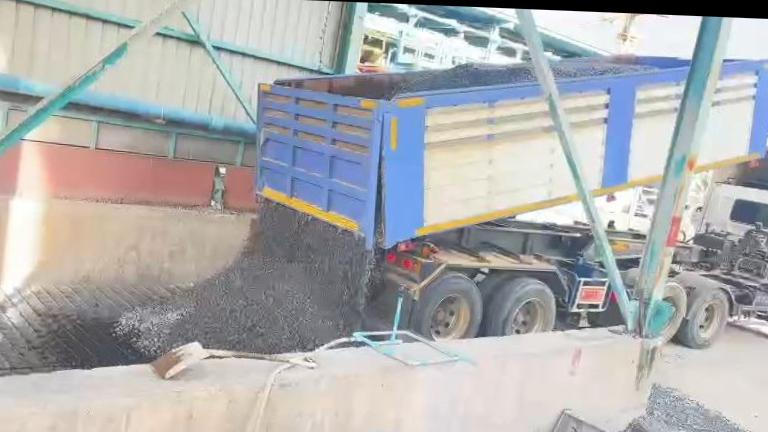gravel: (116, 201, 373, 356), (628, 384, 768, 432), (384, 62, 536, 99), (550, 59, 653, 80)
